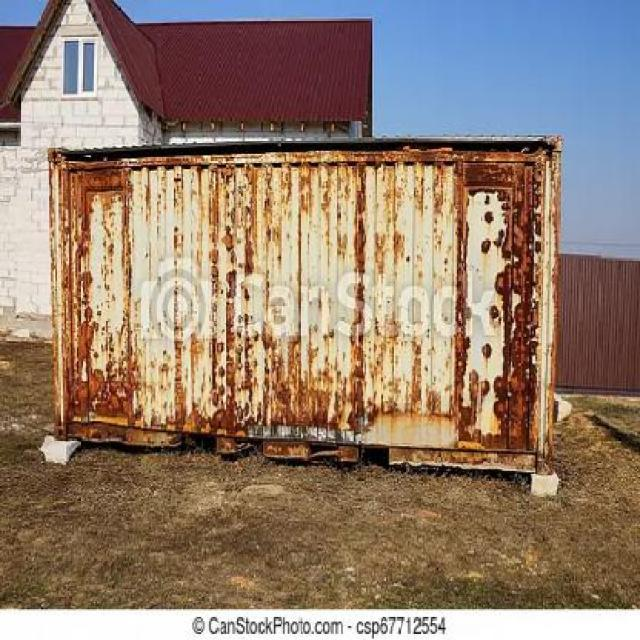Rust: (354, 152, 543, 451), (57, 156, 203, 430), (462, 192, 508, 434)
